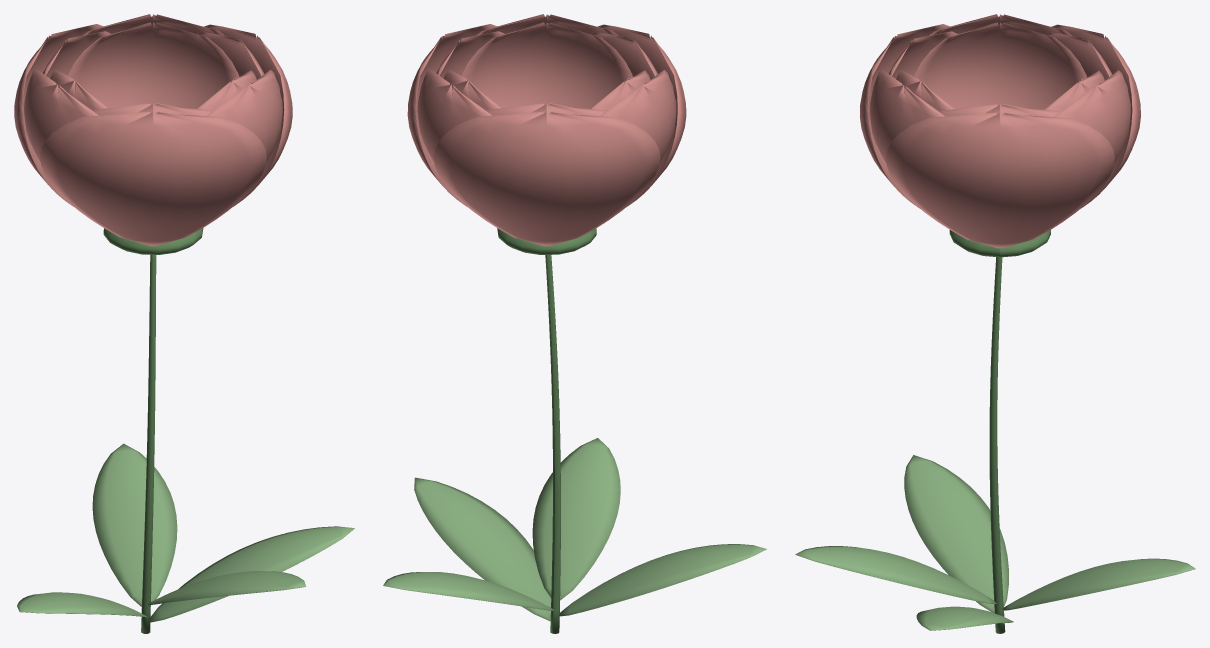
The model's file is tulip-epic-v2.glb.
3 renders of one model, left to right at view 1: azimuth 30°, elevation 25°; view 2: azimuth 150°, elevation 25°; view 3: azimuth 270°, elevation 25°, orthographic.
Visible parts, largest first — view 1: tulip-epic-v2-petal, tulip-epic-v2-leaf, tulip-epic-v2-stem; view 2: tulip-epic-v2-petal, tulip-epic-v2-leaf, tulip-epic-v2-stem; view 3: tulip-epic-v2-petal, tulip-epic-v2-leaf, tulip-epic-v2-stem.
Part boxes in pixels (x1,y1,x2,y2): tulip-epic-v2-petal: (14,14,292,246); tulip-epic-v2-leaf: (17,443,354,622); tulip-epic-v2-stem: (103,228,203,633); tulip-epic-v2-petal: (407,14,686,246); tulip-epic-v2-leaf: (383,438,766,621); tulip-epic-v2-stem: (497,228,596,633); tulip-epic-v2-petal: (860,14,1140,248); tulip-epic-v2-leaf: (795,455,1195,630); tulip-epic-v2-stem: (949,230,1050,633).
Bounding box in the file's own units: 1.43 × 2.26 × 1.43.
